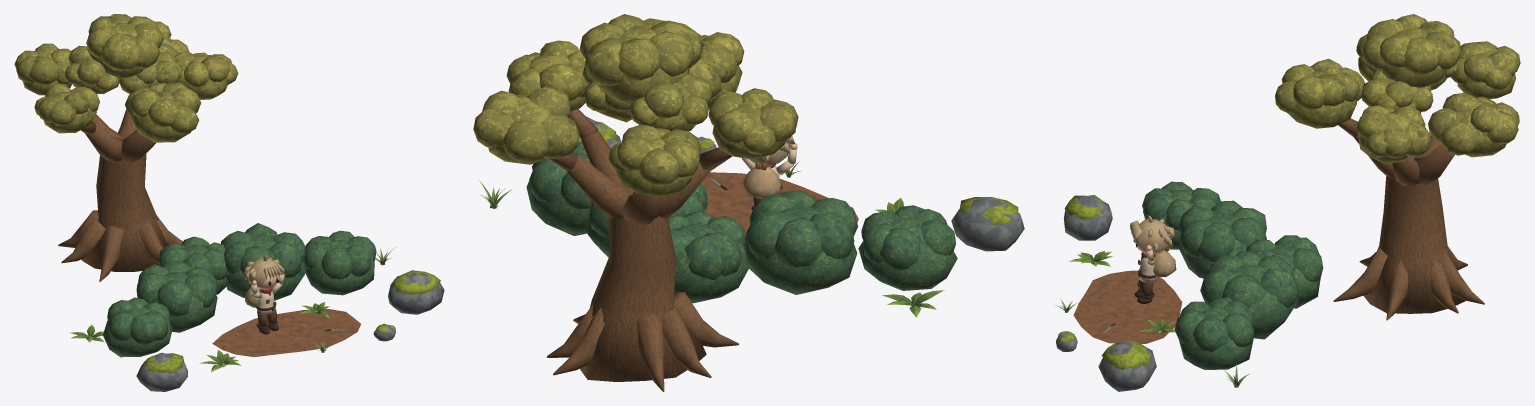
Rendered from ev10_turncoat.glb.
3 renders of one model, left to right at view 1: azimuth 30°, elevation 25°; view 2: azimuth 150°, elevation 25°; view 3: azimuth 270°, elevation 25°, orthographic. The views are drawn at different scales.
Parts seen in each view (by area): view 1: ev10_turncoat_tree_crown, ev10_turncoat_bushes, ev10_turncoat_tree_trunk, ev10_turncoat_ground_details, ev10_turncoat_turncoat, ev10_turncoat_plants; view 2: ev10_turncoat_tree_crown, ev10_turncoat_bushes, ev10_turncoat_tree_trunk, ev10_turncoat_ground_details, ev10_turncoat_turncoat, ev10_turncoat_plants; view 3: ev10_turncoat_tree_crown, ev10_turncoat_bushes, ev10_turncoat_tree_trunk, ev10_turncoat_ground_details, ev10_turncoat_turncoat, ev10_turncoat_plants.
Boxes of the visible parts, <box> form: ev10_turncoat_tree_crown: <box>14,14,238,142</box>; ev10_turncoat_bushes: <box>103,223,376,357</box>; ev10_turncoat_tree_trunk: <box>58,109,183,281</box>; ev10_turncoat_ground_details: <box>136,270,444,391</box>; ev10_turncoat_turncoat: <box>244,255,285,334</box>; ev10_turncoat_plants: <box>70,247,395,372</box>; ev10_turncoat_tree_crown: <box>473,14,798,197</box>; ev10_turncoat_bushes: <box>526,142,957,303</box>; ev10_turncoat_tree_trunk: <box>547,109,738,391</box>; ev10_turncoat_ground_details: <box>578,116,1024,251</box>; ev10_turncoat_turncoat: <box>742,136,797,210</box>; ev10_turncoat_plants: <box>478,161,944,317</box>; ev10_turncoat_tree_crown: <box>1275,14,1520,164</box>; ev10_turncoat_bushes: <box>1142,181,1323,369</box>; ev10_turncoat_tree_trunk: <box>1333,118,1484,320</box>; ev10_turncoat_ground_details: <box>1056,195,1182,391</box>; ev10_turncoat_turncoat: <box>1130,214,1176,303</box>; ev10_turncoat_plants: <box>1054,251,1249,387</box>.
Size of the model in its own units: 6.3 by 4.42 by 6.88.
Materials: 22 (22 with a texture image).
